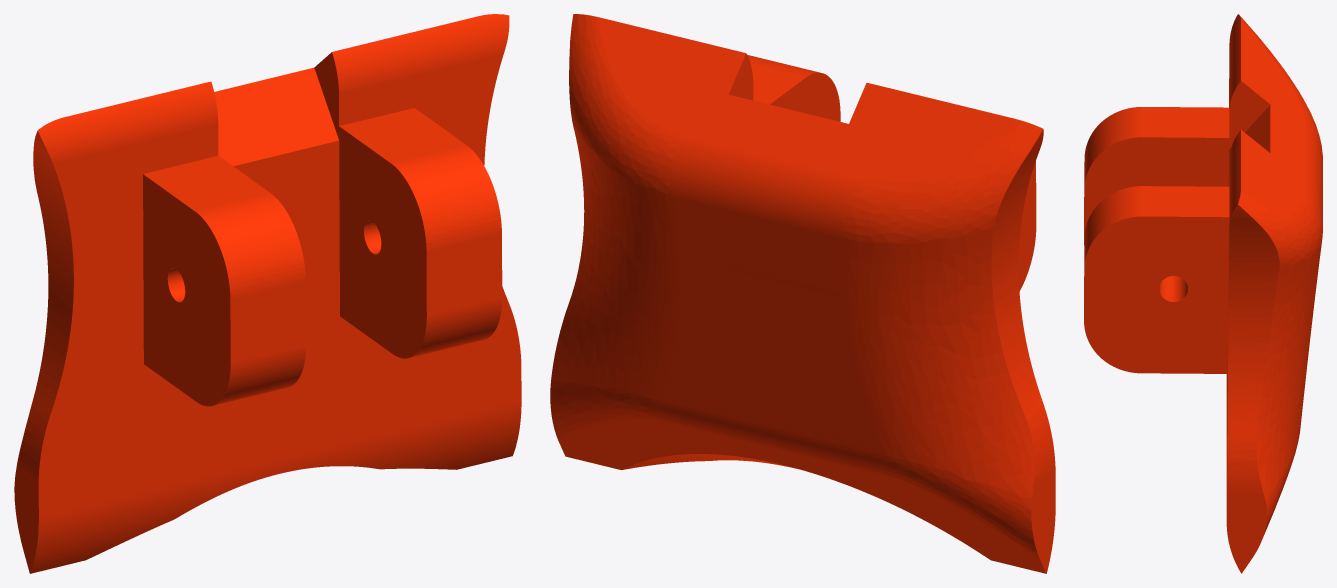
File: R_Hand_Thumb_Middle_visuals_ALLEX_Right_Hand_Thumb_Middle_Pad.obj
3 renders of one model, left to right at view 1: azimuth 30°, elevation 25°; view 2: azimuth 150°, elevation 25°; view 3: azimuth 270°, elevation 25°, orthographic. The views are drawn at different scales.
Size of the model in its own units: 0.016 by 0.0142 by 0.00829.
